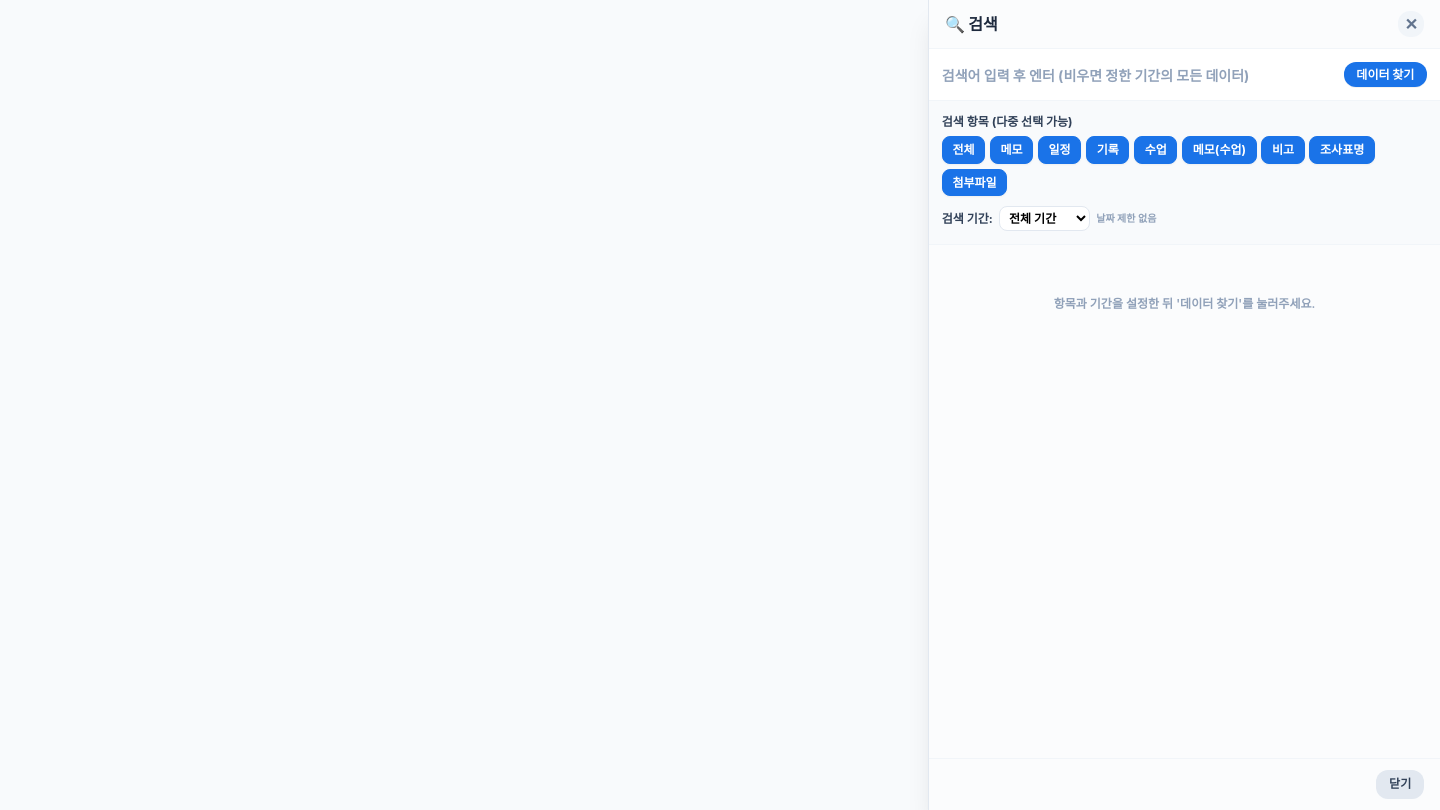
Test case: 검색 - 메모 기간 › 기간이 '전체 기간'(처음 값)이면 모든 메모가 나온다
The width and height of the screenshot is (1440, 810).
Click the button "데이터 찾기" at (1385, 75), box top-left (1344, 62), bottom-right (1427, 87)
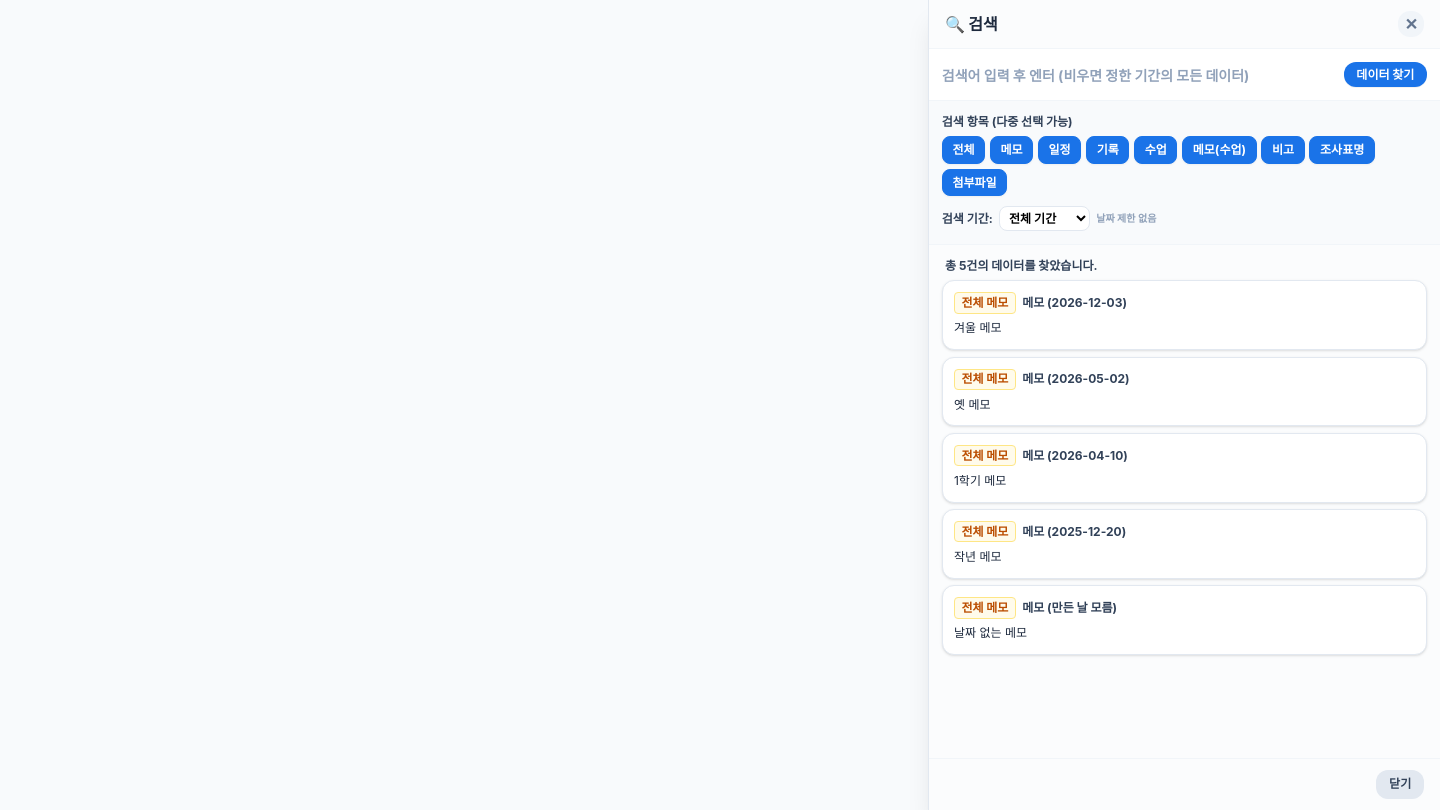
Now the text "1학기 메모" is shown, box top-left (954, 473), bottom-right (1006, 488)
Now the text "작년 메모" is shown, box top-left (954, 549), bottom-right (1002, 564)
Now the text "겨울 메모" is shown, box top-left (954, 320), bottom-right (1002, 336)
